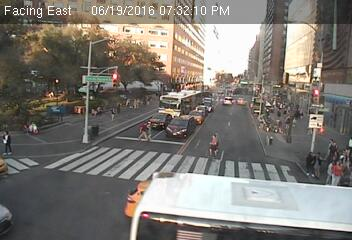neg: (141, 51, 157, 73), (112, 53, 128, 74), (63, 53, 77, 72), (38, 74, 51, 92), (55, 100, 68, 117)
pos: (203, 133, 226, 163), (107, 105, 121, 124)
